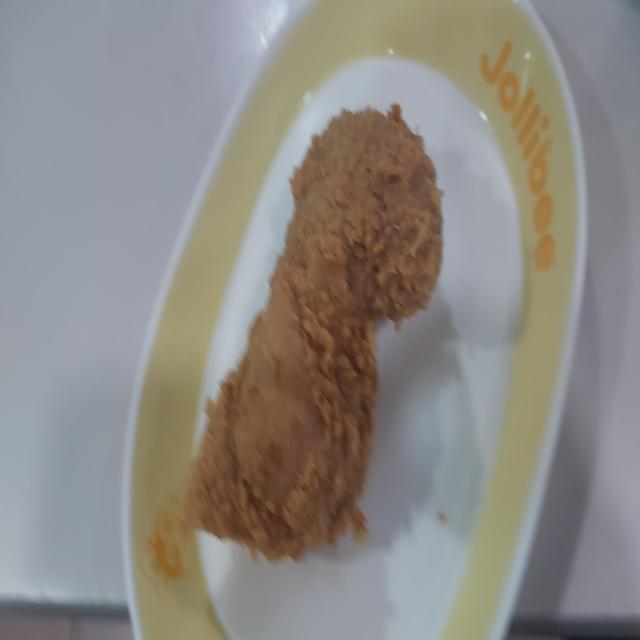Chicken -Fried Chicken-: (168, 96, 494, 615)
